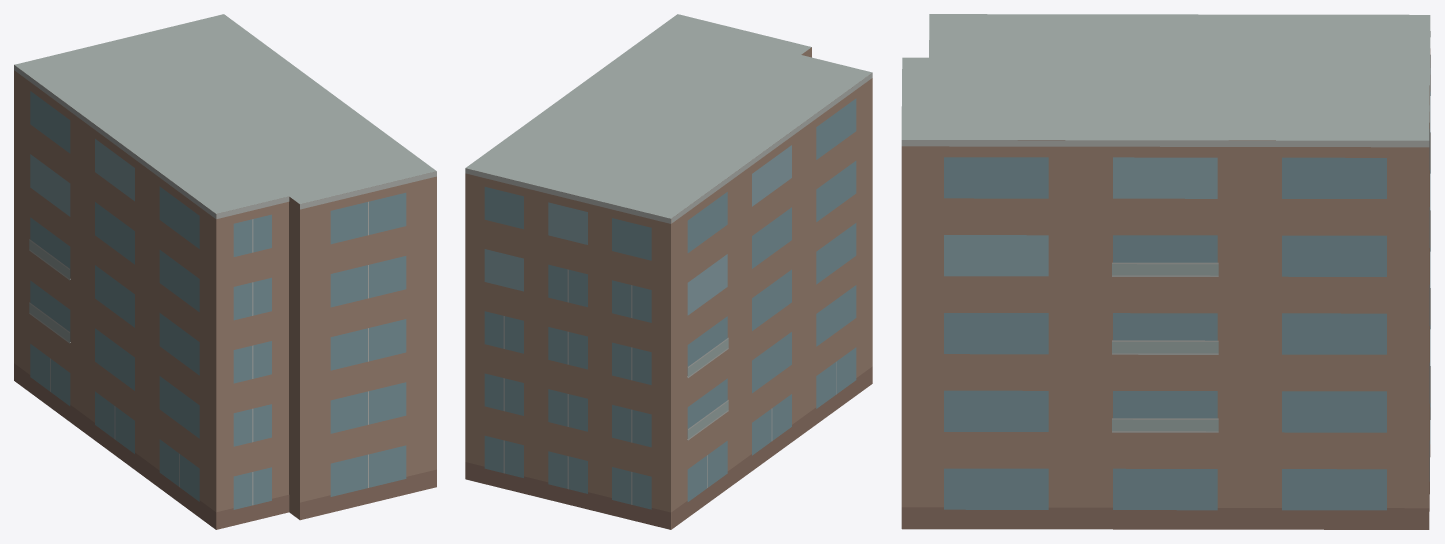
File: survey-upis-32606365.glb
3 views of the same model, side by side, from view 1: azimuth 30°, elevation 25°; view 2: azimuth 150°, elevation 25°; view 3: azimuth 270°, elevation 25° (orthographic). The views are drawn at different scales.
Visible parts, largest first — view 1: survey-upis-32606365.tmp; view 2: survey-upis-32606365.tmp; view 3: survey-upis-32606365.tmp.
Part boxes in pixels (x1=…): survey-upis-32606365.tmp: x1=14, y1=14, x2=436, y2=529; survey-upis-32606365.tmp: x1=465, y1=14, x2=872, y2=529; survey-upis-32606365.tmp: x1=901, y1=14, x2=1430, y2=529.
Size of the model in its own units: 10.14 by 14.5 by 17.87.
